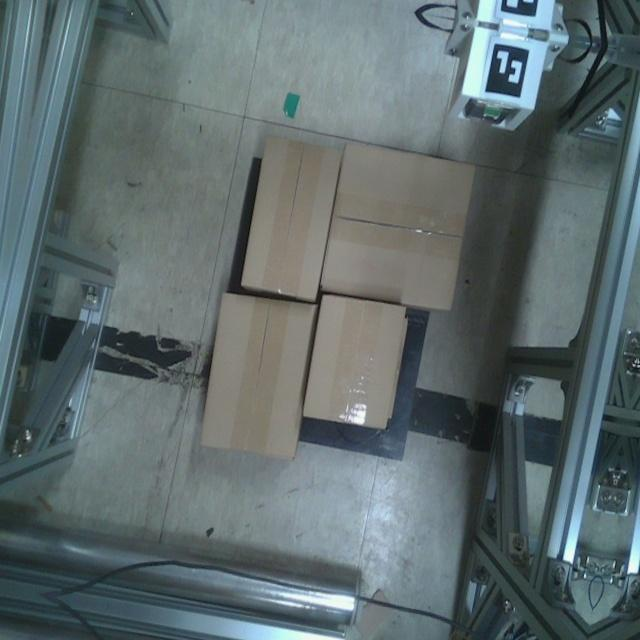box: (318, 138, 482, 315), (191, 286, 325, 466), (237, 132, 347, 303), (299, 290, 412, 434)
